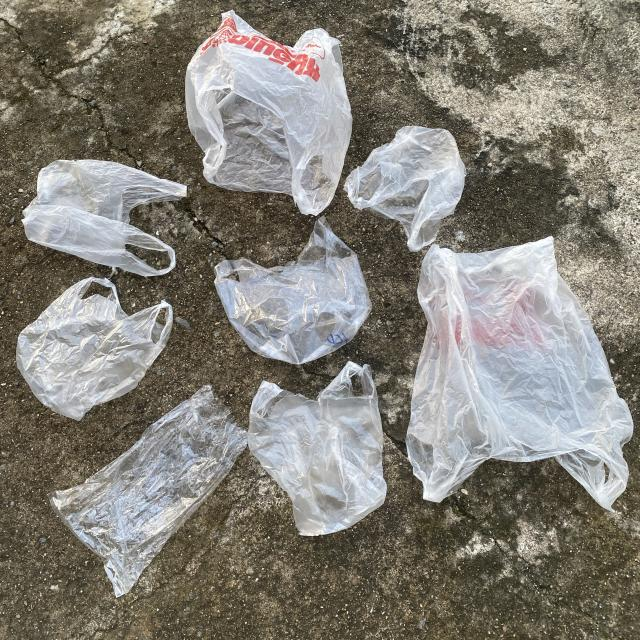Single-layer Plastic: (406, 238, 634, 510), (49, 385, 248, 596), (185, 11, 352, 215), (248, 362, 386, 536), (215, 216, 371, 364), (16, 278, 172, 420), (22, 160, 186, 276), (344, 126, 466, 251)
